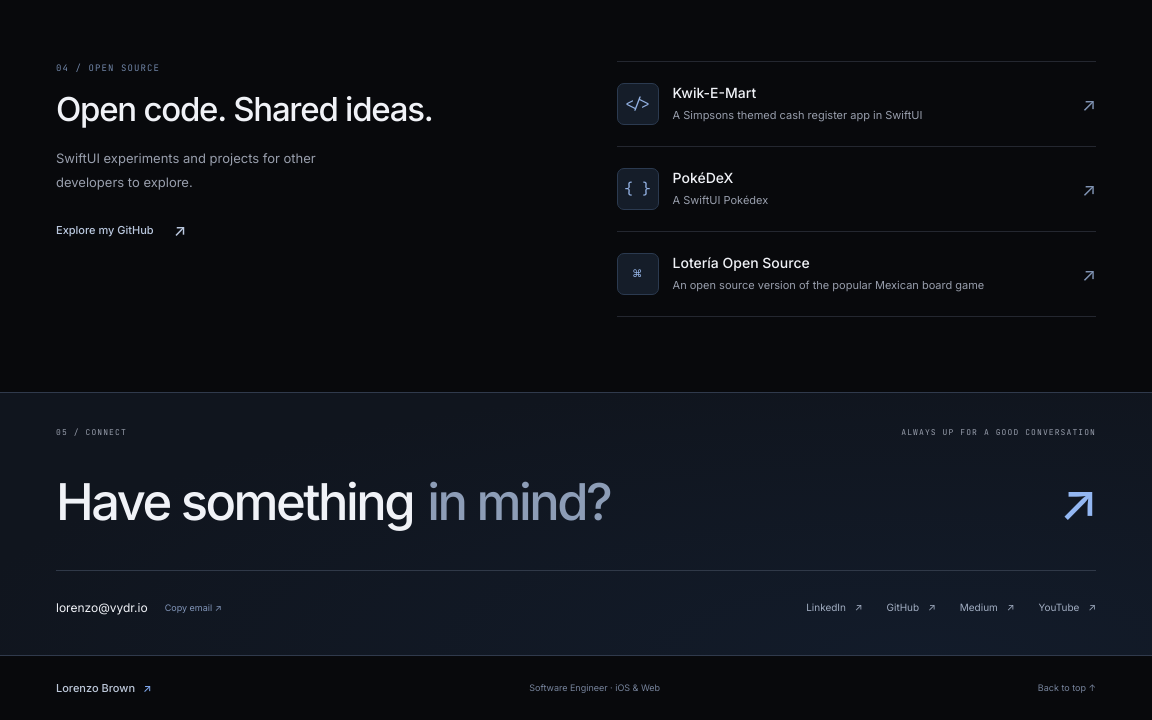
Test: copy email gives accessible feedback
The width and height of the screenshot is (1152, 720).
(page scrolled)
Step 1. Click the button "Copy email ↗" → (193, 607), box [165,595,222,620]
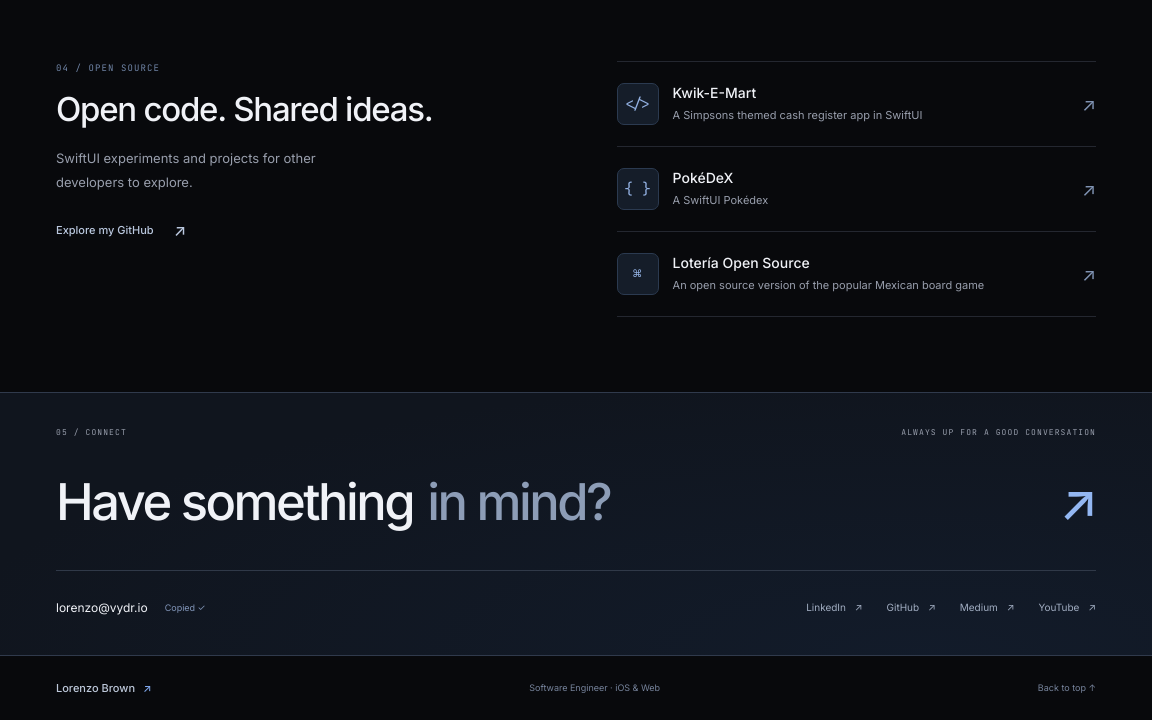
expect the button "Copied ✓" is shown: met, box [165,595,206,620]
